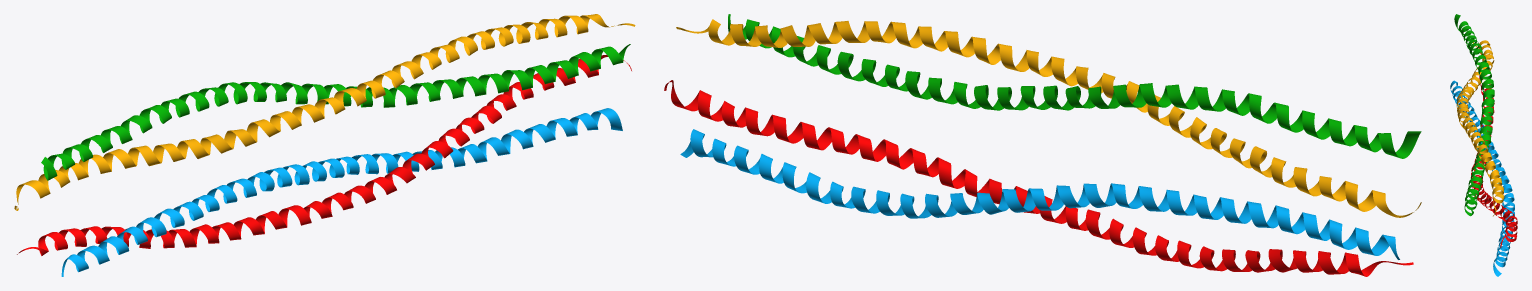
The model's file is PROTEINY.glb.
3 views of the same model, side by side, from view 1: azimuth 30°, elevation 25°; view 2: azimuth 150°, elevation 25°; view 3: azimuth 270°, elevation 25° (orthographic). The views are drawn at different scales.
Parts seen in each view (by area): view 1: Object_5, Object_4, Object_6, Object_3; view 2: Object_4, Object_3, Object_5, Object_6; view 3: Object_6, Object_5, Object_4, Object_3.
Boxes of the visible parts, x1,y1,x2,y2 form: Object_5: [14, 14, 635, 210]; Object_4: [61, 108, 622, 276]; Object_6: [41, 44, 630, 180]; Object_3: [17, 54, 631, 255]; Object_4: [680, 129, 1399, 259]; Object_3: [664, 80, 1413, 276]; Object_5: [676, 19, 1421, 217]; Object_6: [728, 14, 1421, 158]; Object_6: [1454, 14, 1494, 216]; Object_5: [1456, 40, 1504, 216]; Object_4: [1450, 80, 1514, 276]; Object_3: [1470, 75, 1517, 247].
Bounding box in the file's own units: 162 × 38.73 × 25.01.
